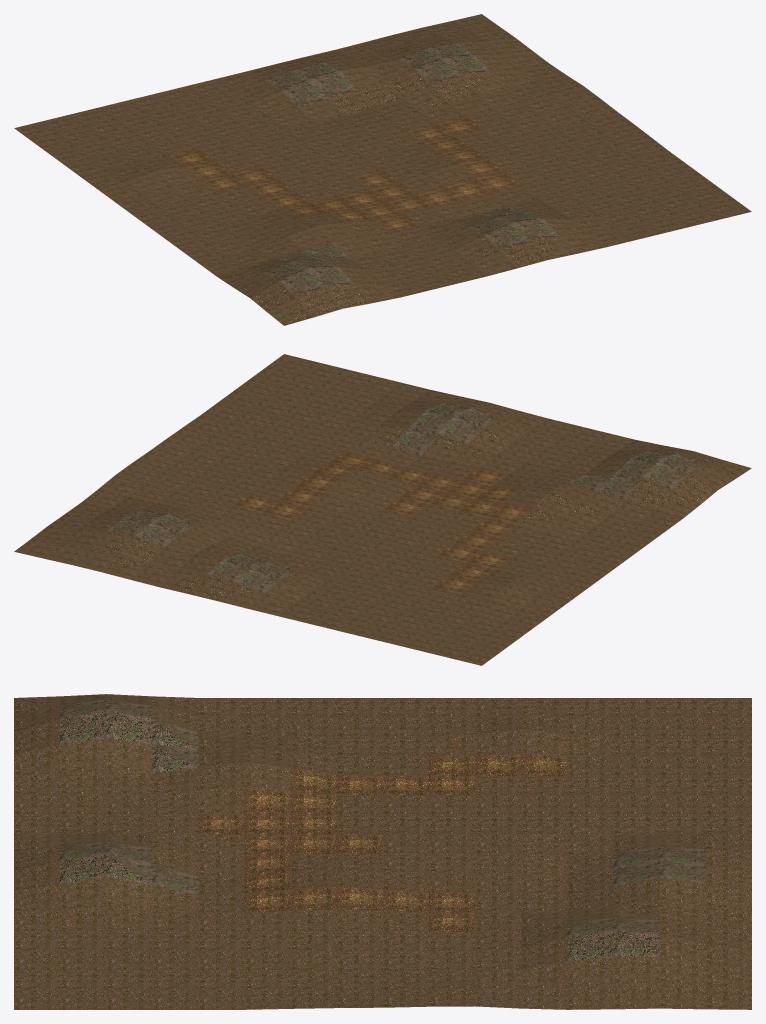
File: ground_200_paths.glb
3 views of the same model, one above another, from view 1: azimuth 30°, elevation 25°; view 2: azimuth 150°, elevation 25°; view 3: azimuth 270°, elevation 25° (orthographic). The views are drawn at different scales.
Visible parts, largest first — view 1: ground_200_paths; view 2: ground_200_paths; view 3: ground_200_paths.
Part boxes in pixels (x1,y1,x2,y2): ground_200_paths: [14, 14, 751, 325]; ground_200_paths: [14, 354, 751, 665]; ground_200_paths: [14, 694, 751, 1009].
Bounding box in the file's own units: 250 × 11.39 × 250.
Materials: 1 (1 with a texture image).
